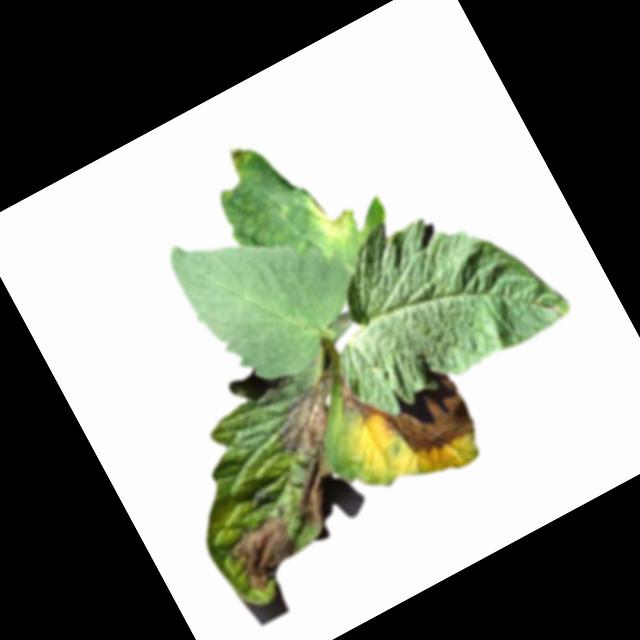Late_blight: (242, 361, 400, 534), (378, 372, 480, 468), (221, 506, 314, 596), (301, 178, 366, 252), (330, 365, 379, 425), (225, 138, 259, 171)
